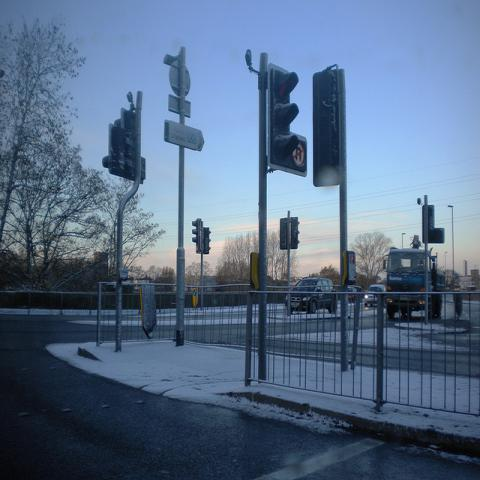car: (291, 275, 338, 314), (364, 285, 387, 306), (348, 286, 361, 303)
truck: (386, 246, 446, 320)
